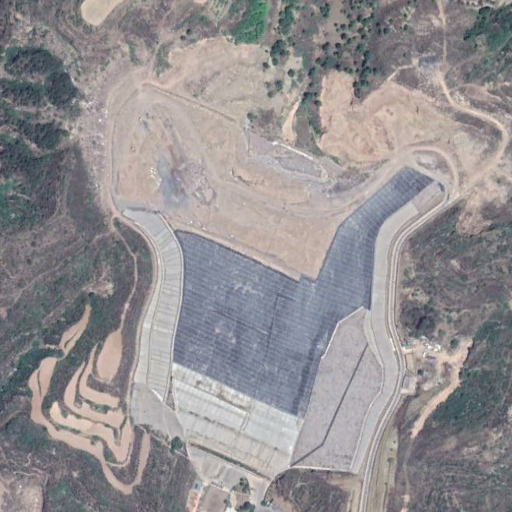lf: (103, 84, 452, 472)
